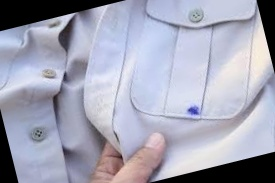ink: (186, 103, 200, 117)
